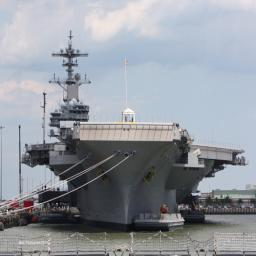Portanaves: (22, 25, 250, 229)
